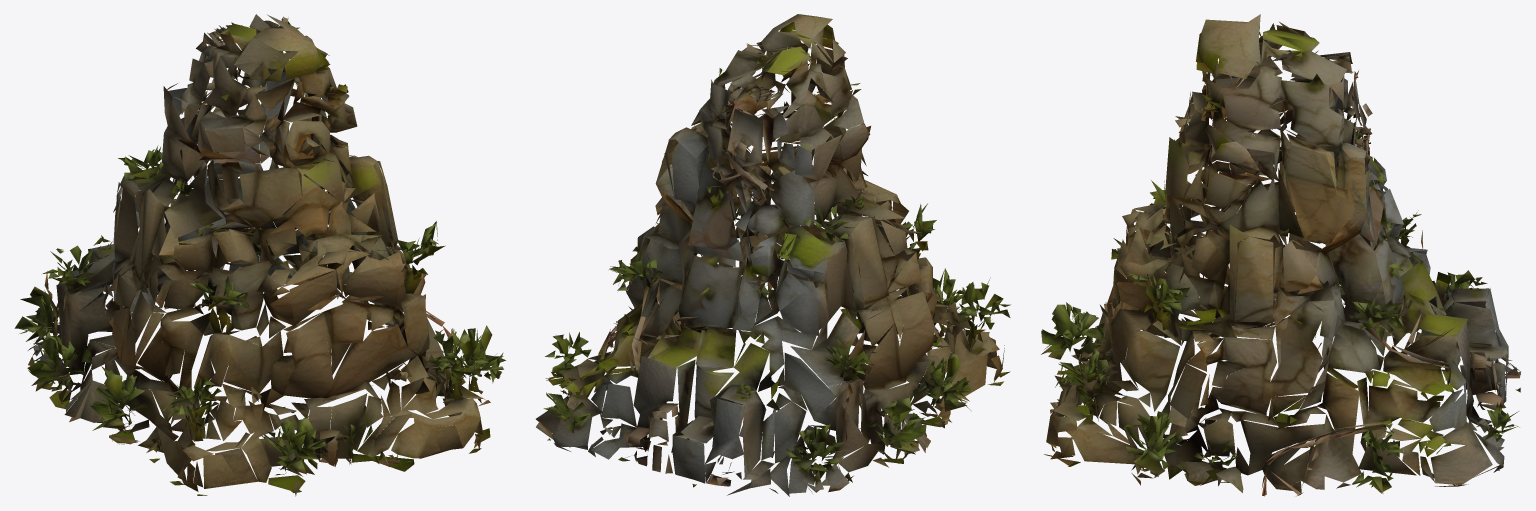
Rendered from epi_mist_ridge_rock_outcrop_LOD2.glb.
3 renders of one model, left to right at view 1: azimuth 30°, elevation 25°; view 2: azimuth 150°, elevation 25°; view 3: azimuth 270°, elevation 25°, orthographic. The views are drawn at different scales.
Parts seen in each view (by area): view 1: tripo_node_afe57d34-b2b2-4e13-acbc-345c426728cd; view 2: tripo_node_afe57d34-b2b2-4e13-acbc-345c426728cd; view 3: tripo_node_afe57d34-b2b2-4e13-acbc-345c426728cd.
Boxes of the visible parts, left/top/right/bottom form: tripo_node_afe57d34-b2b2-4e13-acbc-345c426728cd: left=14, top=14, right=505, bottom=496; tripo_node_afe57d34-b2b2-4e13-acbc-345c426728cd: left=536, top=14, right=1010, bottom=496; tripo_node_afe57d34-b2b2-4e13-acbc-345c426728cd: left=1041, top=14, right=1520, bottom=496.
Bounding box in the file's own units: 0.9246 × 0.906 × 0.9933.
Materials: 1 (1 with a texture image).
